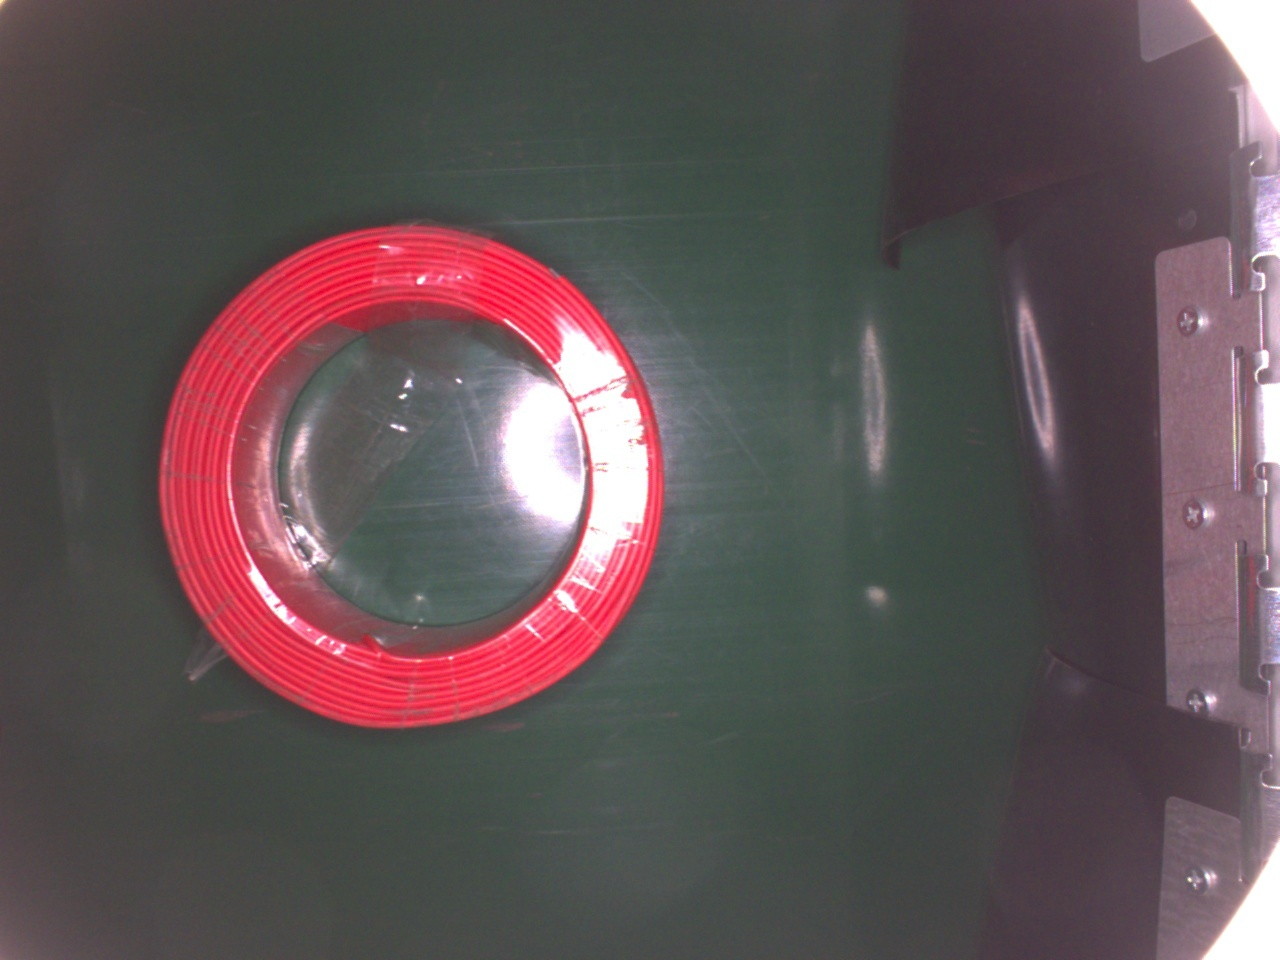red: (146, 221, 666, 742)
